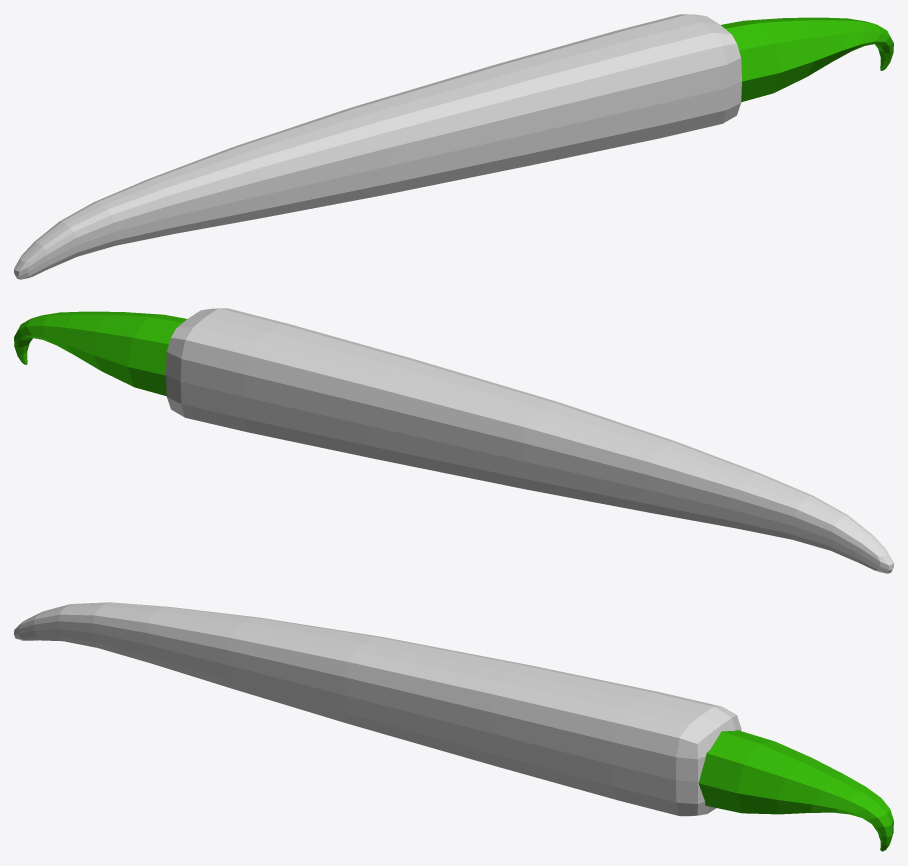
Rendered from Pimenta.fbx.
The picture shows the model from 3 angles, top to bottom: view 1: azimuth 30°, elevation 25°; view 2: azimuth 150°, elevation 25°; view 3: azimuth 330°, elevation 25°; orthographic projection.
Parts seen in each view (by area): view 1: Pimenta; view 2: Pimenta; view 3: Pimenta.
Part boxes in pixels (x1,y1,x2,y2): Pimenta: [14, 14, 893, 279]; Pimenta: [14, 308, 893, 573]; Pimenta: [14, 602, 893, 851].
Bounding box in the file's own units: 23.04 × 2.34 × 2.34.
